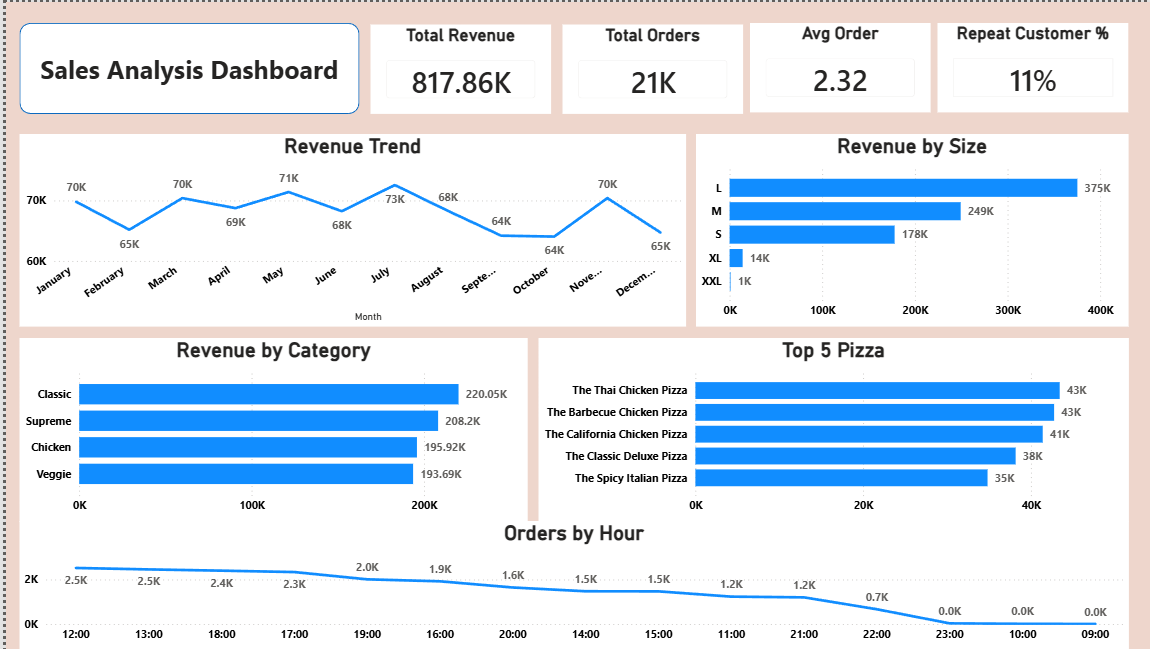

The dashboard page shown, as its layout file describes it:
{"tool":"powerbi","page":{"name":"Page 2","canvas":[1280,720],"ordinal":1},"visuals":[{"type":"cardVisual","title":"Avg Order","fields":{"Data":["Sum(Avg_order_pizza.avg_order)"]},"box":[826.6,23.2,200.4,99.4],"z":0},{"type":"cardVisual","title":"Total Revenue","fields":{"Data":["Sum(public vw_sales_fact.revenue)"]},"box":[404.2,24.8,200.4,99.4],"z":1000},{"type":"cardVisual","title":"Total Orders","fields":{"Data":["Sum(public vw_daily_sales.total_orders)"]},"box":[617.9,24.8,200.4,99.4],"z":2000},{"type":"cardVisual","title":"Repeat Customer %","fields":{"Data":["Sum(Repeate_rate.repeate_rate)"]},"box":[1035.3,23.2,212,99.4],"z":3000},{"type":"lineChart","title":"Revenue Trend","fields":{"Y":["Sum(public vw_daily_sales.total_revenue)"],"Category":["public vw_daily_sales.order_date.Variation.Date Hierarchy.Month"]},"box":[14.9,147.4,740.4,213.7],"z":4000},{"type":"barChart","title":"Revenue by Category","fields":{"Y":["Sum(public vw_category_sales.total_revenue)"],"Category":["public vw_category_sales.category"]},"box":[14.9,372.7,564.9,203.7],"z":5000},{"type":"barChart","title":"Revenue by Size","fields":{"Y":["Sum(public vw_pizza_revenue.total_revenue)"],"Category":["public vw_pizza_revenue.size"]},"box":[767,147.4,480.4,213.7],"z":6000},{"type":"barChart","title":"Top 5 Pizza","fields":{"Category":["public vw_pizza_revenue.pizza_name"],"Y":["Sum(public vw_pizza_revenue.total_revenue)"]},"box":[591.4,372.7,656,203.7],"z":7000},{"type":"lineChart","title":"Orders by Hour","fields":{"Y":["Sum(Order_per_hour.total_order_by_hourly)"],"Category":["Order_per_hour.order_hour"]},"box":[14.9,576.5,1232.4,144.1],"z":8000},{"type":"shape","box":[14.9,23.2,377.7,101],"z":9000}]}

Visuals, with their boxes in screenshot pixels (x1, y1, x2, y2), scaled from the page's 1280x720 canvas onto the 1150x649 screenshot:
"Avg Order" cardVisual: pyautogui.locateOnScreen(743, 21, 923, 111)
"Total Revenue" cardVisual: pyautogui.locateOnScreen(363, 22, 543, 112)
"Total Orders" cardVisual: pyautogui.locateOnScreen(555, 22, 735, 112)
"Repeat Customer %" cardVisual: pyautogui.locateOnScreen(930, 21, 1121, 111)
"Revenue Trend" lineChart: pyautogui.locateOnScreen(13, 133, 679, 325)
"Revenue by Category" barChart: pyautogui.locateOnScreen(13, 336, 521, 520)
"Revenue by Size" barChart: pyautogui.locateOnScreen(689, 133, 1121, 325)
"Top 5 Pizza" barChart: pyautogui.locateOnScreen(531, 336, 1121, 520)
"Orders by Hour" lineChart: pyautogui.locateOnScreen(13, 520, 1121, 648)
shape: pyautogui.locateOnScreen(13, 21, 353, 112)
